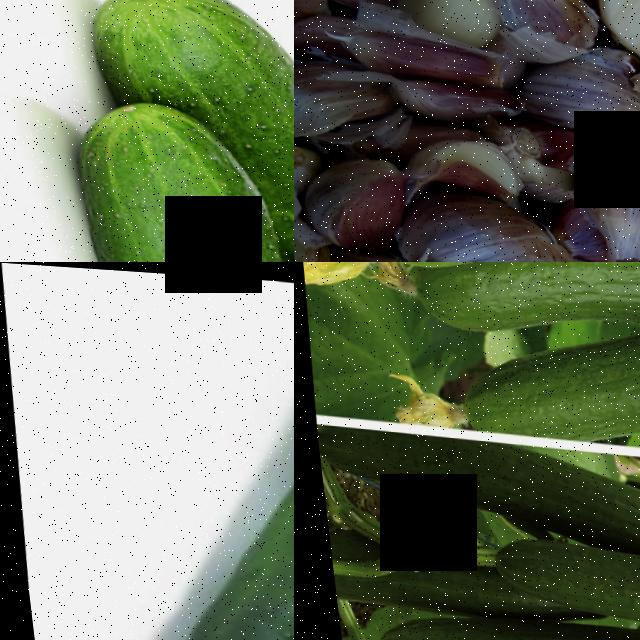cucumber: (42, 277, 294, 640), (308, 422, 640, 545), (56, 107, 294, 262), (73, 0, 294, 126), (482, 533, 640, 640), (546, 315, 640, 457), (359, 600, 640, 640)
garlic: (328, 17, 504, 85), (294, 149, 406, 252), (558, 129, 640, 260), (393, 127, 520, 200), (388, 0, 496, 36), (584, 0, 640, 59)
